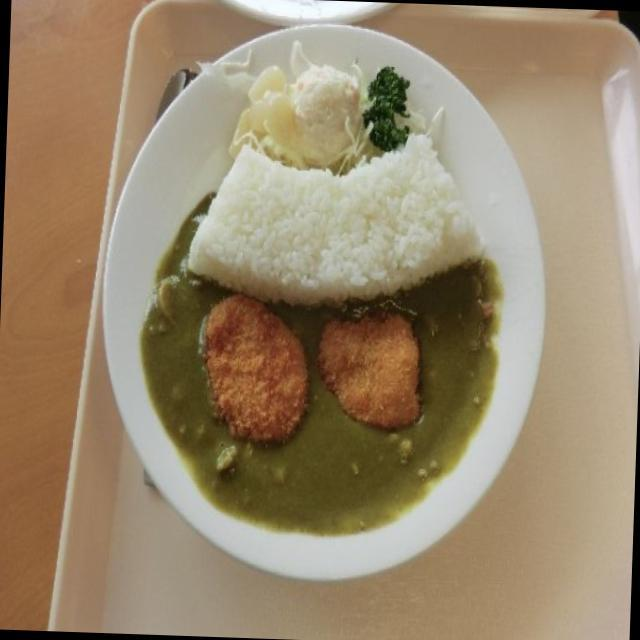Beef Curry: (175, 285, 461, 529)
